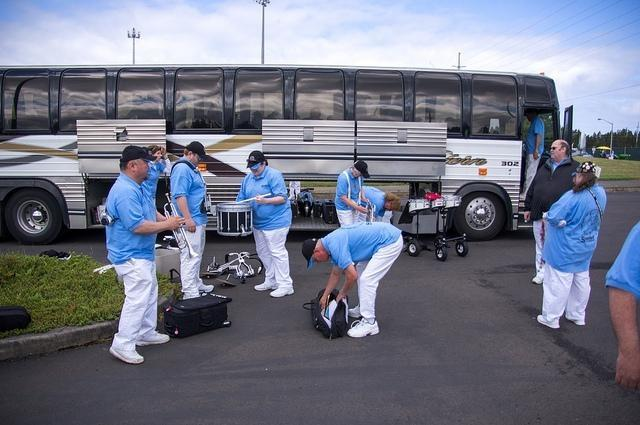bus: (0, 64, 572, 244)
